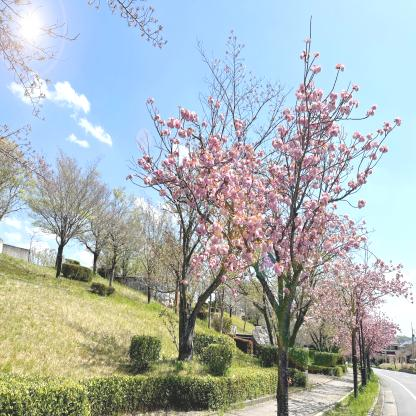YaeSakura: (195, 12, 409, 322), (125, 84, 235, 290), (0, 0, 177, 120), (305, 255, 415, 344), (29, 146, 106, 238), (118, 186, 162, 294), (0, 123, 36, 220), (155, 210, 189, 298), (78, 174, 113, 254), (107, 180, 130, 273), (367, 311, 398, 355), (360, 284, 372, 356)
